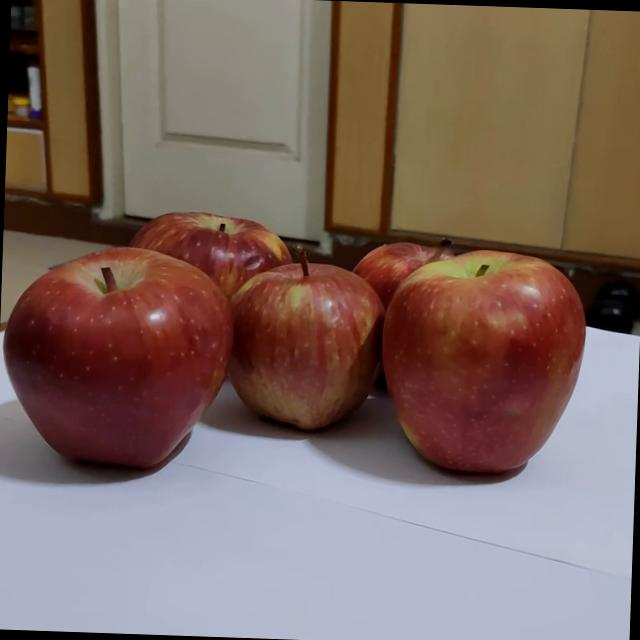apple: (0, 239, 242, 494), (96, 194, 297, 388), (390, 248, 582, 448), (228, 255, 400, 427), (331, 223, 476, 364)
